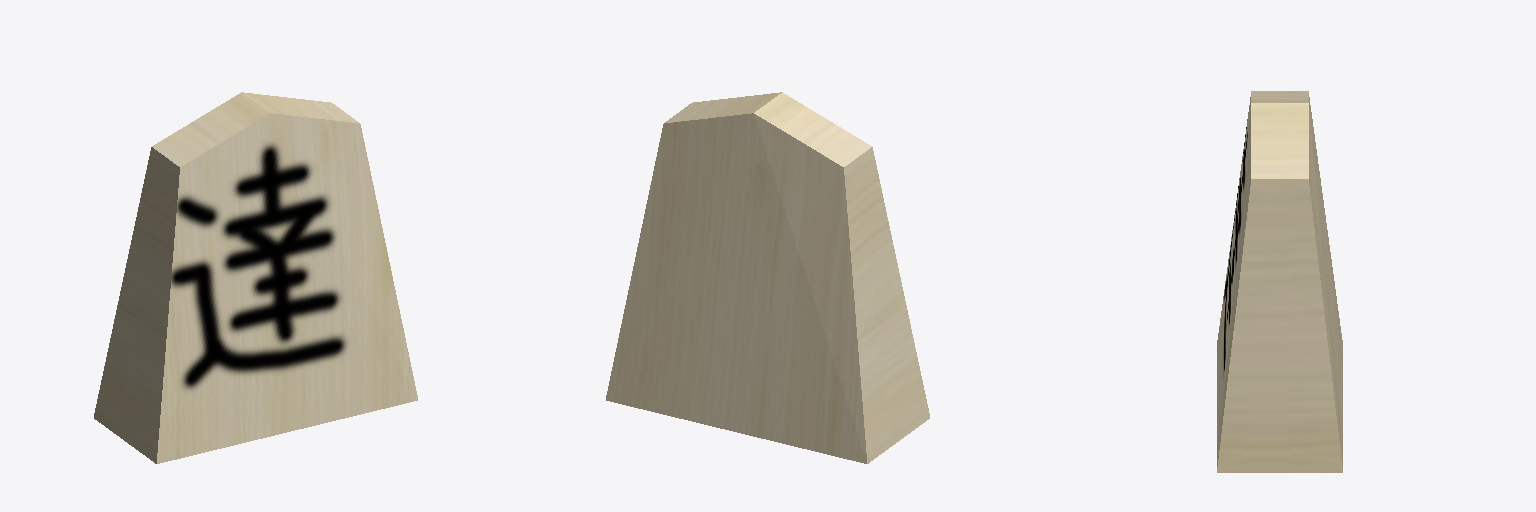
The picture shows the model from 3 angles: view 1: azimuth 30°, elevation 25°; view 2: azimuth 150°, elevation 25°; view 3: azimuth 270°, elevation 25°; orthographic projection.
Visible parts, largest first — view 1: Fciha; view 2: Fciha; view 3: Fciha.
Part boxes in pixels (left/top/right/bottom): Fciha: left=94, top=92, right=417, bottom=463; Fciha: left=606, top=92, right=929, bottom=463; Fciha: left=1217, top=91, right=1342, bottom=472.
Bounding box in the file's own units: 5.47 × 6.12 × 2.29.
1 materials, 1 textured.